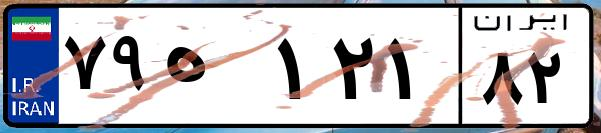1: (270, 28, 330, 110), (385, 28, 445, 110)
2: (330, 28, 385, 110), (525, 38, 570, 115)
7: (57, 26, 110, 100)
8: (475, 38, 525, 113)
9: (110, 28, 158, 98)
ه: (158, 20, 270, 120)
